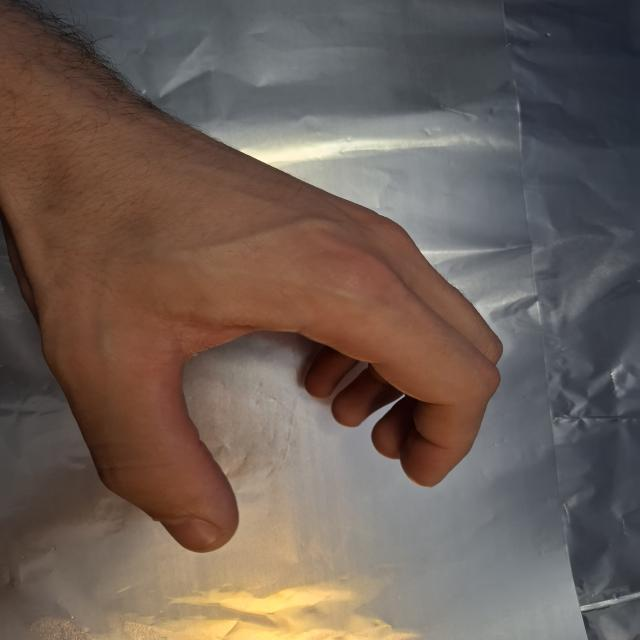glove_off: (13, 147, 507, 554)
